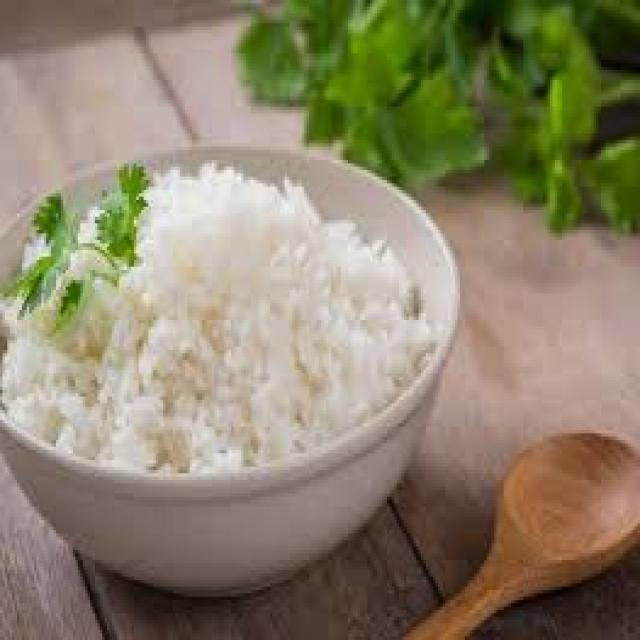White Rice: (6, 155, 421, 538)
